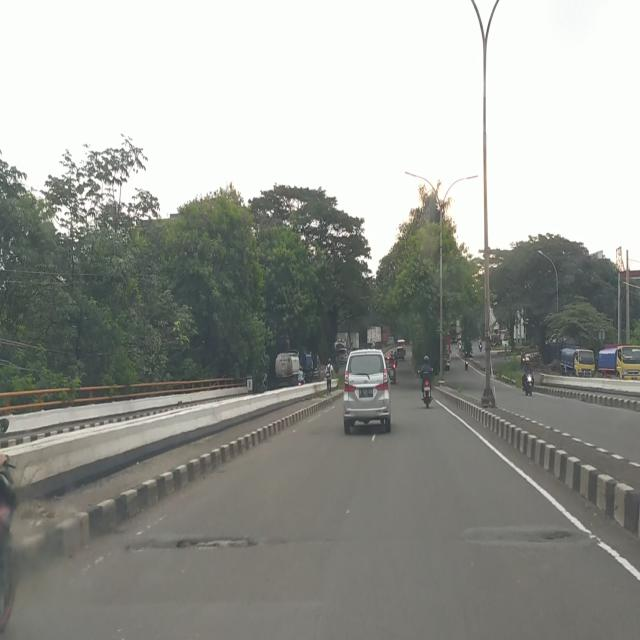Sewer Cover: (109, 535, 254, 554), (464, 528, 578, 548)
